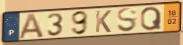3: (46, 12, 65, 37)
9: (69, 10, 90, 37)
A: (17, 12, 46, 40)
K: (94, 9, 112, 34)
Q: (140, 5, 163, 32)
S: (117, 6, 139, 33)
